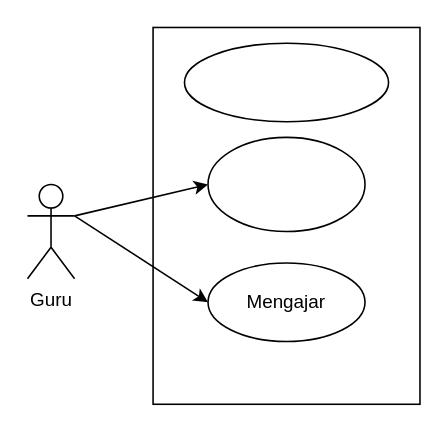
Some shapes in this 447 by 432 pixel diagram are drawn without their labels. Each missing label, with the box of its shape:
Mengisi presensi/absen: (206, 136, 365, 232)
Presensi Mapel: (183, 42, 389, 122)
